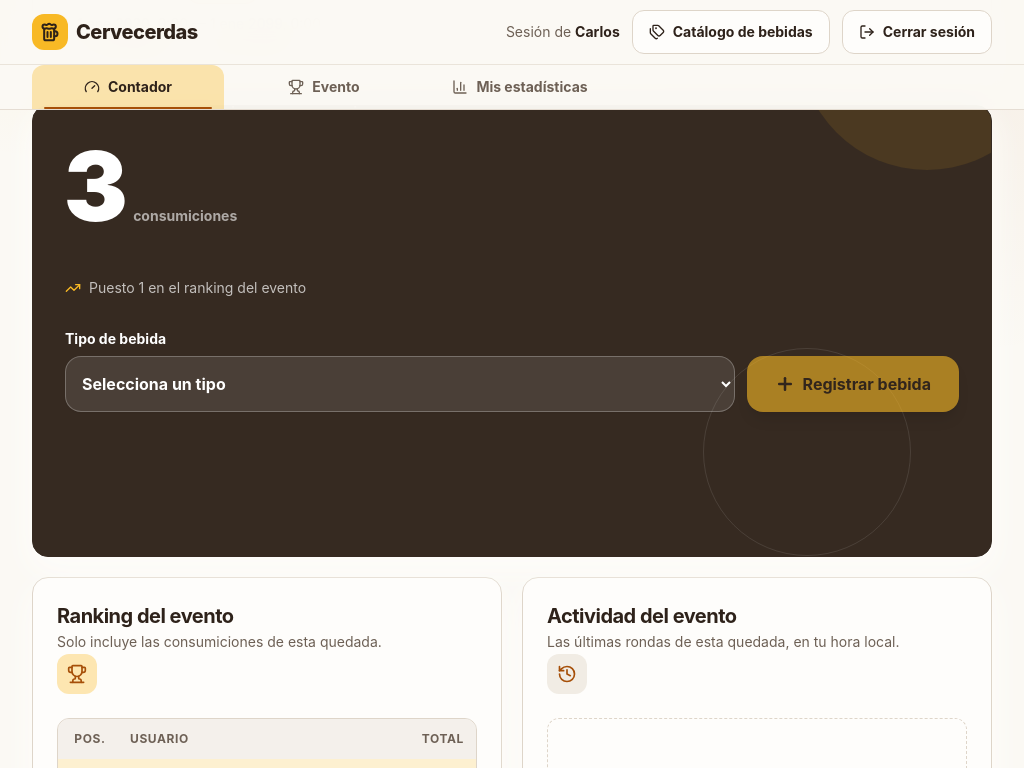
Dashboard › mantiene el contador y anuncia el error de registro
(page scrolled)
Select "IPA" in the dropdown labelled "Tipo de bebida" at (400, 384), box [65,356,735,412]
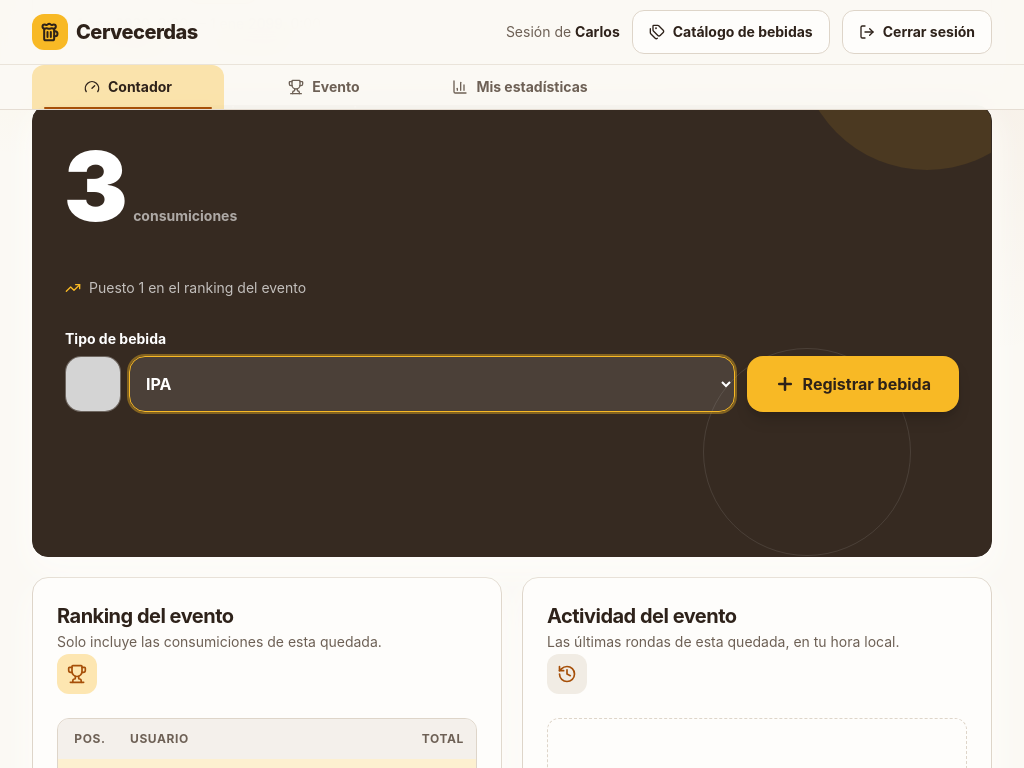
Click the button "Registrar bebida".
click(853, 384)  # box [747,356,959,412]
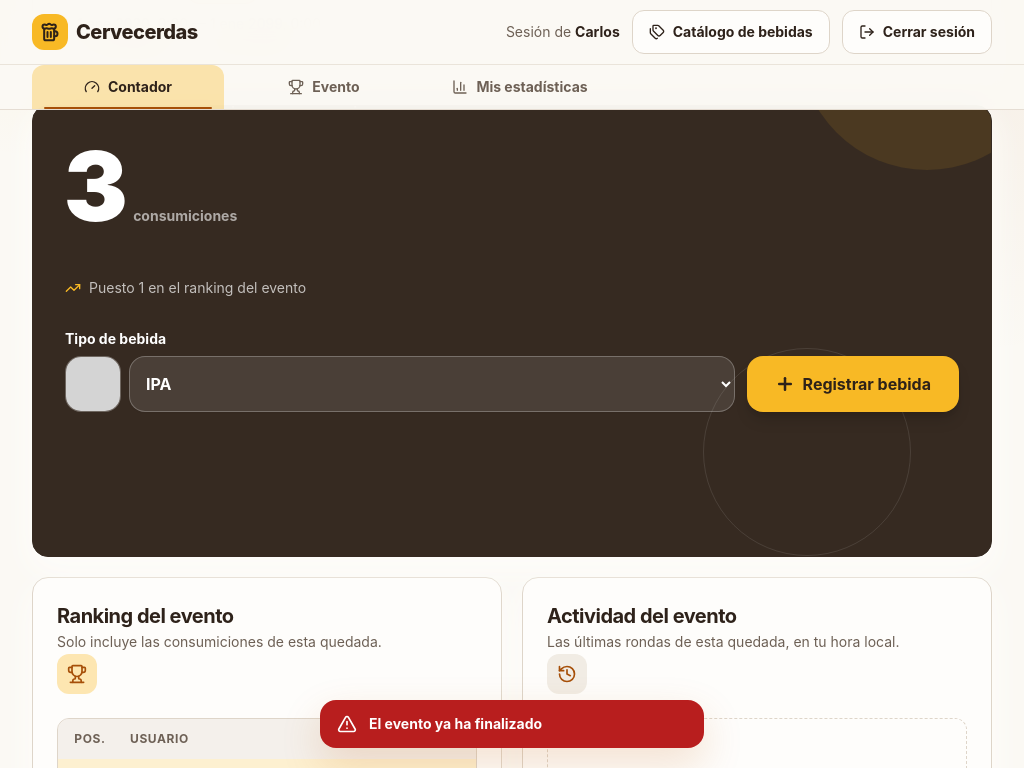
Result: the message reads "El evento ya ha finalizado" at [369,715,542,732]
